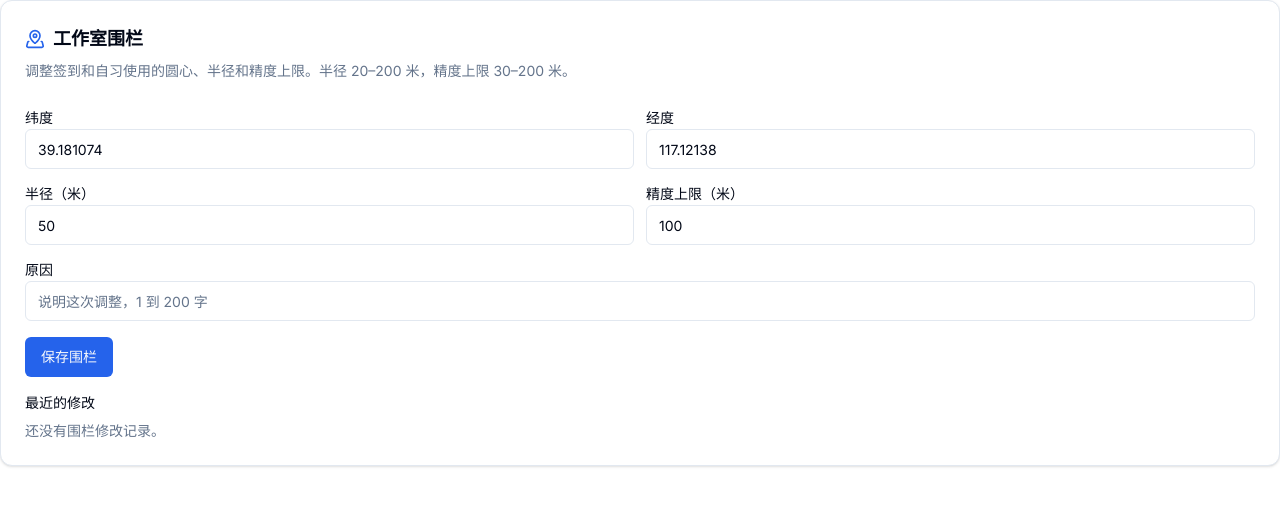
Test: studio geofence settings › shows the RPC error message when the save is rejected
The image size is (1280, 520).
expect the field showing "50" is shown: met, box [25,205,634,245]
Type "试一下" into the field labelled "原因" at (640, 301), box [25,281,1255,321]
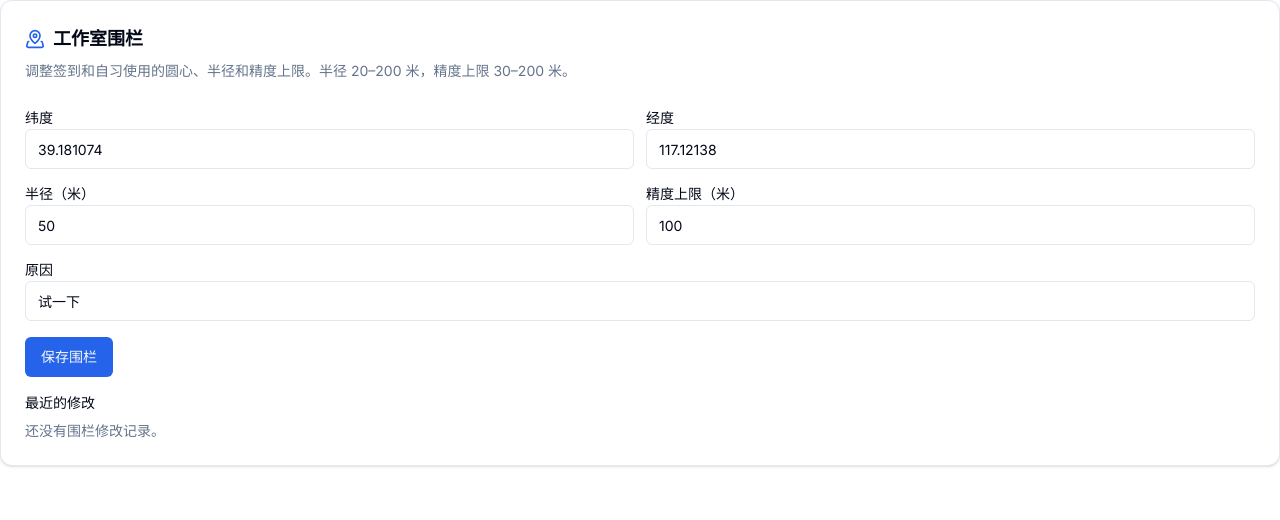
Click the button "保存围栏" at (69, 357), box [25,337,113,377]
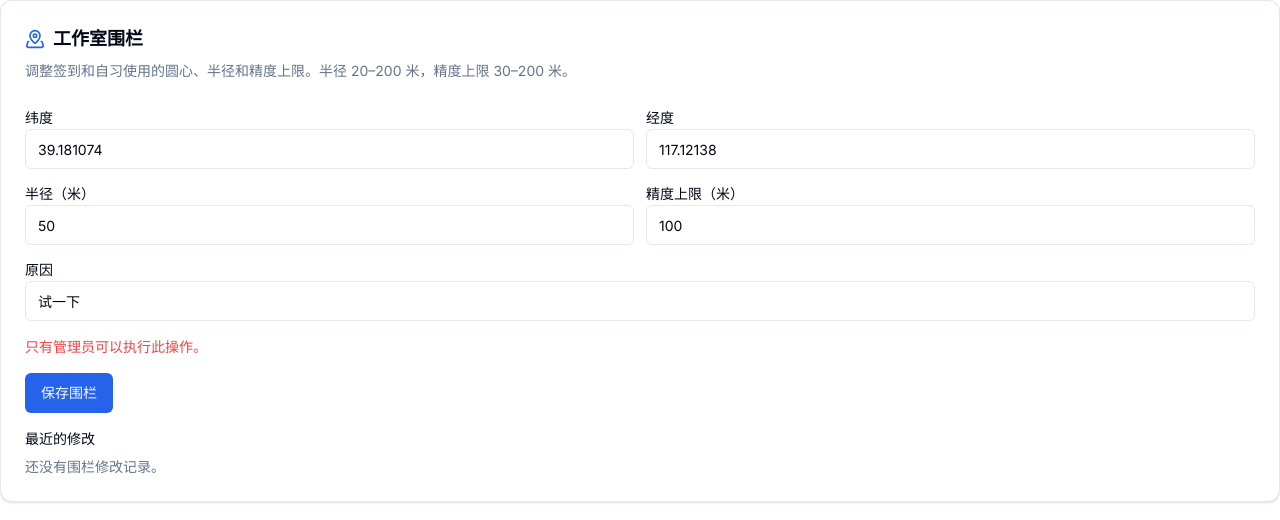
expect the message reads "只有管理员可以执行此操作。": met, box [25,338,207,355]
